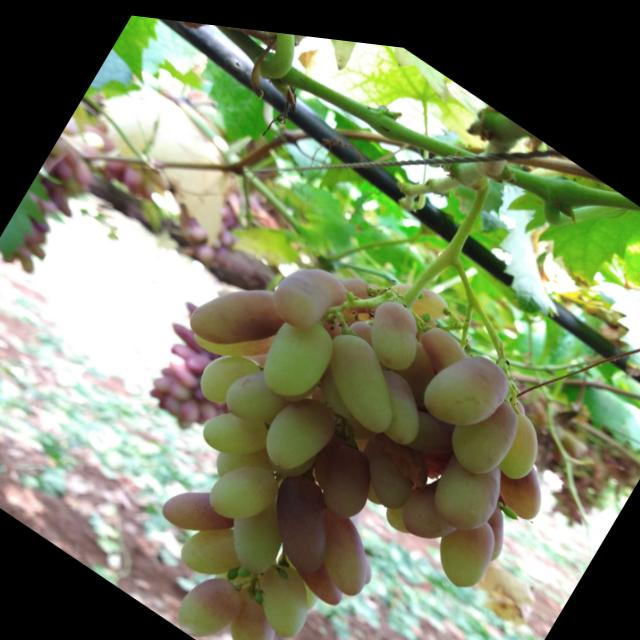grapes: (184, 249, 296, 372), (304, 313, 418, 433), (248, 455, 354, 576), (417, 322, 518, 438), (250, 294, 344, 407), (421, 425, 514, 535), (292, 491, 388, 595), (254, 373, 344, 481), (439, 370, 528, 477), (216, 472, 303, 578), (265, 241, 353, 340), (190, 288, 278, 377), (426, 491, 506, 588), (202, 440, 284, 534), (306, 426, 387, 521), (243, 547, 325, 640), (356, 353, 438, 444), (158, 467, 242, 552), (175, 501, 255, 590), (356, 282, 434, 370), (169, 555, 249, 640), (218, 350, 297, 436), (198, 387, 276, 470), (346, 425, 424, 508), (393, 466, 468, 546), (192, 331, 264, 414), (209, 418, 283, 498), (484, 436, 556, 514), (381, 322, 449, 399), (488, 395, 552, 476), (398, 389, 466, 463), (213, 576, 288, 640), (409, 309, 473, 375), (264, 543, 328, 607), (386, 258, 453, 319), (310, 352, 372, 416), (290, 540, 352, 602), (328, 259, 385, 319), (302, 418, 351, 486), (470, 489, 520, 554), (264, 422, 318, 482), (213, 546, 263, 597), (277, 357, 319, 406), (381, 488, 422, 529), (167, 315, 210, 353), (57, 148, 97, 186), (338, 405, 378, 442), (346, 305, 381, 340), (182, 342, 213, 376), (176, 389, 206, 424), (163, 372, 196, 403), (352, 543, 380, 578), (16, 219, 46, 251), (317, 306, 346, 337), (361, 469, 390, 499), (120, 159, 149, 189), (169, 333, 198, 361), (104, 150, 132, 179), (50, 154, 77, 183), (174, 362, 201, 388), (192, 237, 218, 264), (184, 217, 210, 244), (192, 392, 218, 418), (160, 388, 185, 414), (27, 210, 53, 235), (151, 367, 175, 393), (22, 237, 48, 261), (308, 376, 332, 400), (10, 239, 34, 263), (51, 194, 75, 218), (213, 220, 236, 243), (16, 252, 38, 276), (167, 349, 189, 372), (37, 193, 58, 216), (175, 409, 195, 430), (160, 359, 180, 379), (24, 187, 43, 206), (208, 388, 226, 407), (148, 381, 166, 399), (366, 272, 384, 289), (206, 228, 223, 246), (2, 248, 17, 267), (513, 387, 529, 402), (214, 400, 228, 414), (184, 296, 198, 310)
